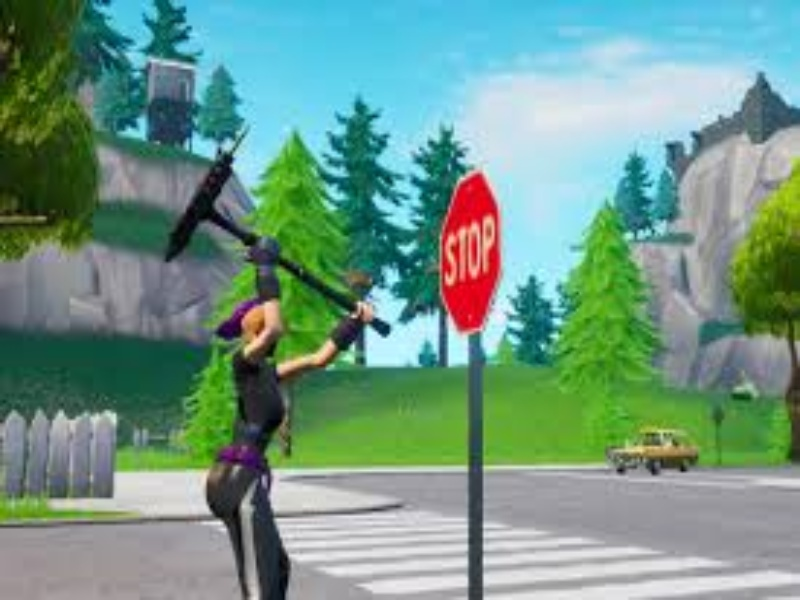Stop_Sign: (434, 167, 506, 339)
